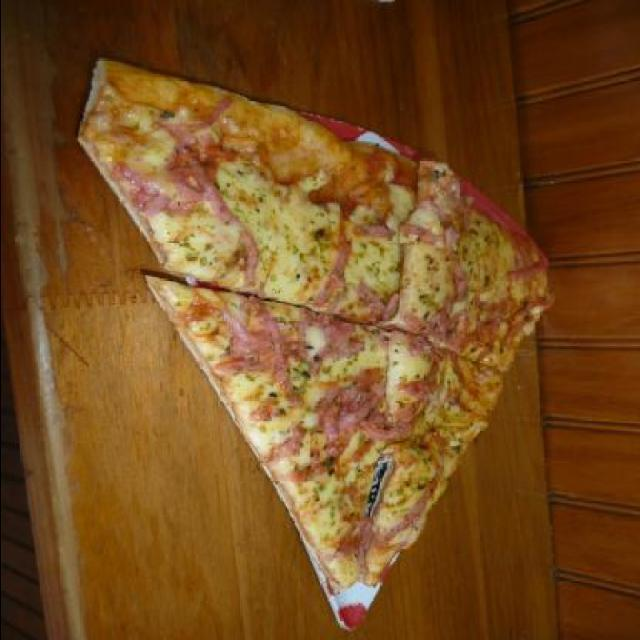Pizza: (88, 82, 537, 602)
